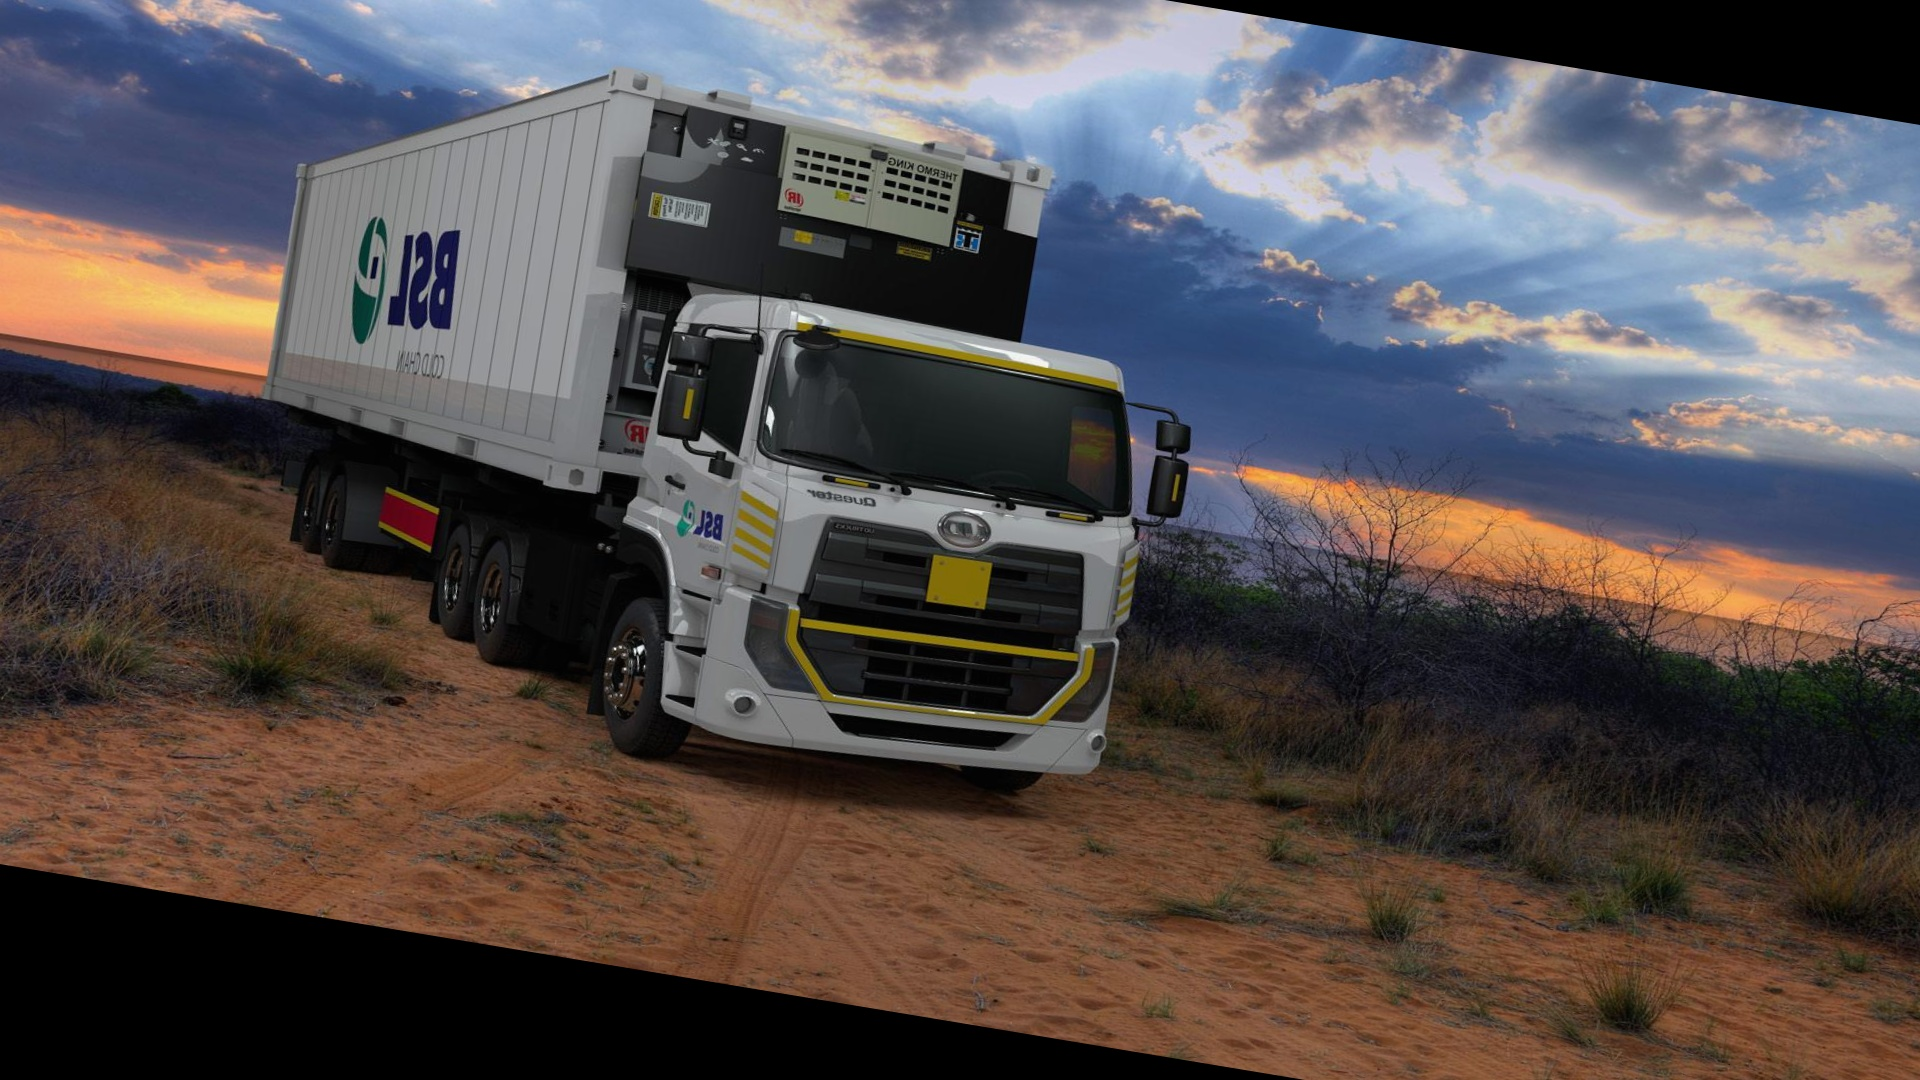truck: (216, 22, 1204, 840)
